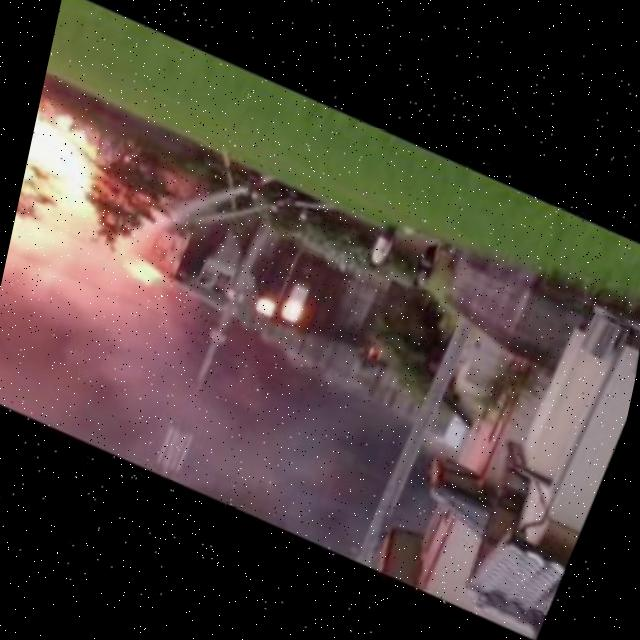fire: (0, 56, 180, 312), (129, 251, 181, 292)
